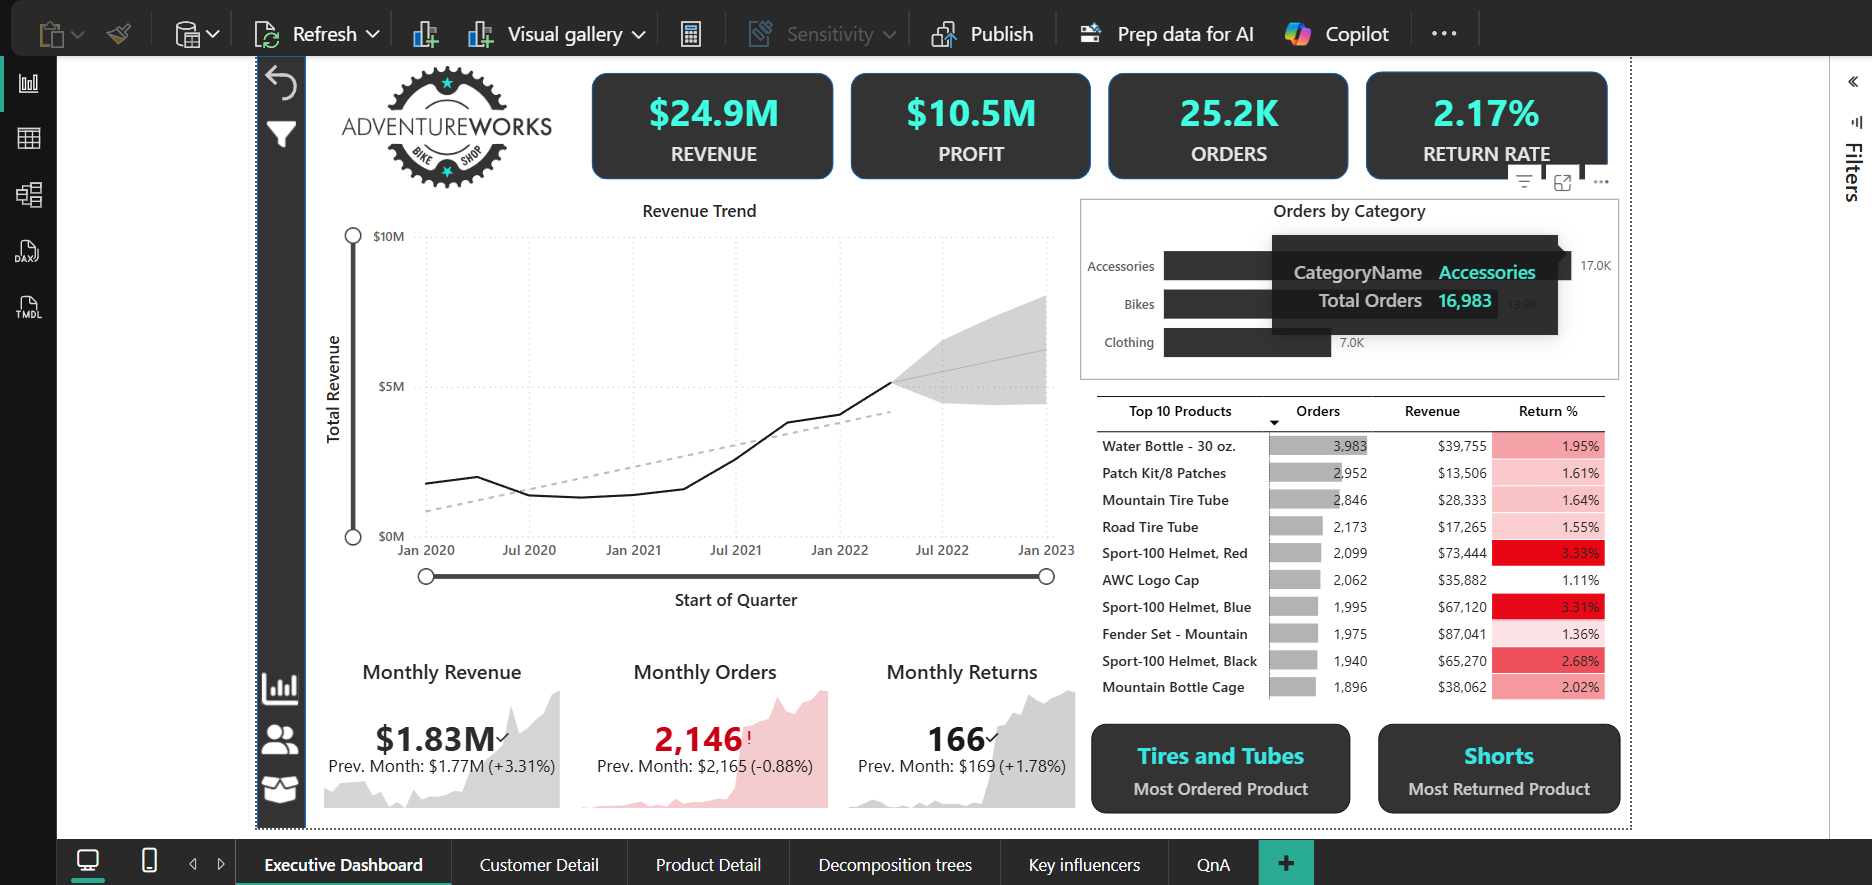

The dashboard page shown, as its layout file describes it:
{"tool":"powerbi","page":{"name":"Executive Dashboard","canvas":[1280,720],"ordinal":0},"visuals":[{"type":"image","title":"AW Logo","box":[57.1,0,240.2,133.3],"z":0},{"type":"shape","box":[1034.1,14.6,225.6,101.1],"z":0,"group":"g1"},{"type":"shape","title":"Left Nav BG","box":[0,0,45.4,720.6],"z":1000},{"type":"shape","box":[793.9,16.1,224.1,99.6],"z":1000,"group":"g1"},{"type":"actionButton","box":[0,612.9,42.5,46.9],"z":1000,"group":"g3"},{"type":"group","id":"g1","title":"KPI Backgrounds","box":[312,14.6,947.6,101.1],"z":2000},{"type":"shape","box":[312,16.1,225.6,99.6],"z":2000,"group":"g1"},{"type":"group","id":"g2","title":"KPI Values","box":[325.1,13.2,922.7,102.5],"z":3000},{"type":"card","fields":{"Values":["Measure Table.Total Revenue"]},"box":[325.1,13.2,202.1,102.5],"z":3000,"group":"g2"},{"type":"shape","box":[553.7,16.1,224.1,99.6],"z":3000,"group":"g1"},{"type":"actionButton","box":[0,659.7,42.5,46.9],"z":3000,"group":"g3"},{"type":"card","fields":{"Values":["Measure Table.Total Profit"]},"box":[565.3,13.2,202.1,102.5],"z":4000,"group":"g2"},{"type":"lineChart","title":"Revenue Trend","fields":{"Y":["Measure Table.Total Revenue"],"Category":["Calendar Lookup.Year","Calendar Lookup.Start of Quarter","Calendar Lookup.Start of Month"]},"box":[57.1,133.3,710.3,383.7],"z":4000},{"type":"actionButton","box":[0,566,42.5,46.9],"z":4000,"group":"g3"},{"type":"card","fields":{"Values":["Measure Table.Total Orders"]},"box":[805.5,13.2,202.1,102.5],"z":5000,"group":"g2"},{"type":"kpi","title":"Monthly Revenue","fields":{"Indicator":["Measure Table.Total Revenue"],"TrendLine":["Calendar Lookup.Start of Month"],"Goal":["Measure Table.Previous Month Revenue"]},"box":[57.1,561,229.9,145],"z":5000},{"type":"card","fields":{"Values":["Measure Table.Return Rate"]},"box":[1045.7,13.2,202.1,102.5],"z":6000,"group":"g2"},{"type":"kpi","title":"Monthly Orders","fields":{"TrendLine":["Calendar Lookup.Start of Month"],"Indicator":["Measure Table.Total Orders"],"Goal":["Measure Table.Previous Month Orders"]},"box":[297.3,561,240.2,145],"z":6000},{"type":"kpi","title":"Monthly Returns","fields":{"TrendLine":["Calendar Lookup.Start of Month"],"Indicator":["Measure Table.Total Returns"],"Goal":["Measure Table.Previous Month Returns"]},"box":[546.3,561,221.2,145],"z":7000},{"type":"barChart","title":"Orders by Category","fields":{"Category":["Product Categories Lookup.CategoryName"],"Y":["Measure Table.Total Orders"]},"box":[767.5,133.3,502.4,168.4],"z":8000},{"type":"pivotTable","fields":{"Rows":["Product Lookup.ProductName"],"Values":["Measure Table.Total Orders","Measure Table.Total Revenue","Measure Table.Return Rate"]},"box":[777.7,312,502.4,295.9],"z":9000},{"type":"card","fields":{"Values":["Min(Product Subcategories Lookup.SubcategoryName)"]},"box":[777.7,622.5,241.7,83.5],"z":10000},{"type":"card","fields":{"Values":["Min(Product Subcategories Lookup.SubcategoryName)"]},"box":[1045.7,622.5,225.6,83.5],"z":11000},{"type":"actionButton","box":[0,0,44.3,48.6],"z":12000},{"type":"group","id":"g3","title":"Page Navigators","box":[0,566,42.5,140.1],"z":13000},{"type":"actionButton","box":[1.4,54.3,42.9,35.7],"z":14000}]}

Visuals, with their boxes on the page's 1280x720 design canvas (x1, y1, x2, y2). These are canvas units, not pixel positions in the 1872x885 screenshot, which may show the page scaled, cropped or inside an application window:
"AW Logo" image: box=[57, 0, 297, 133]
shape: box=[1034, 15, 1260, 116]
"Left Nav BG" shape: box=[0, 0, 45, 721]
shape: box=[794, 16, 1018, 116]
actionButton: box=[0, 613, 42, 660]
"KPI Backgrounds" group: box=[312, 15, 1260, 116]
shape: box=[312, 16, 538, 116]
"KPI Values" group: box=[325, 13, 1248, 116]
card - Measure Table.Total Revenue: box=[325, 13, 527, 116]
shape: box=[554, 16, 778, 116]
actionButton: box=[0, 660, 42, 707]
card - Measure Table.Total Profit: box=[565, 13, 767, 116]
"Revenue Trend" lineChart: box=[57, 133, 767, 517]
actionButton: box=[0, 566, 42, 613]
card - Measure Table.Total Orders: box=[806, 13, 1008, 116]
"Monthly Revenue" kpi: box=[57, 561, 287, 706]
card - Measure Table.Return Rate: box=[1046, 13, 1248, 116]
"Monthly Orders" kpi: box=[297, 561, 538, 706]
"Monthly Returns" kpi: box=[546, 561, 768, 706]
"Orders by Category" barChart: box=[768, 133, 1270, 302]
pivotTable - Product Lookup.ProductName x Measure Table.Total Orders: box=[778, 312, 1280, 608]
card - Min(Product Subcategories Lookup.SubcategoryName): box=[778, 622, 1019, 706]
card - Min(Product Subcategories Lookup.SubcategoryName): box=[1046, 622, 1271, 706]
actionButton: box=[0, 0, 44, 49]
"Page Navigators" group: box=[0, 566, 42, 706]
actionButton: box=[1, 54, 44, 90]
